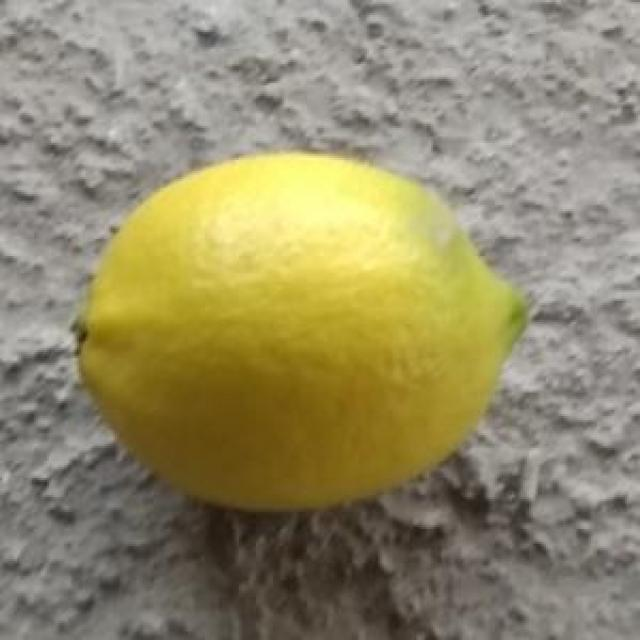lemon: (68, 145, 540, 523)
